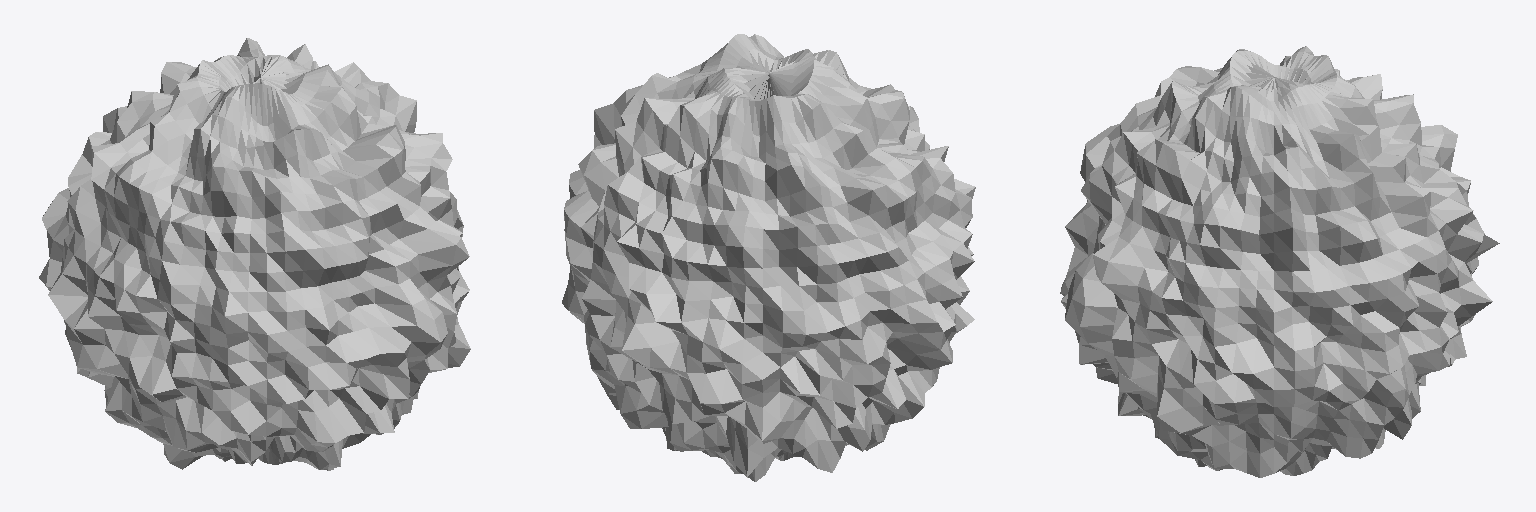
The model's file is Asteroid_metal_big.obj.
3 renders of one model, left to right at view 1: azimuth 30°, elevation 25°; view 2: azimuth 150°, elevation 25°; view 3: azimuth 270°, elevation 25°, orthographic.
Visible parts, largest first — view 1: Metal_Asteroid; view 2: Metal_Asteroid; view 3: Metal_Asteroid.
Boxes of the visible parts, box(x1,y1,x2,y2) form: Metal_Asteroid: box(39, 38, 470, 470); Metal_Asteroid: box(562, 34, 975, 481); Metal_Asteroid: box(1060, 46, 1499, 477).
Size of the model in its own units: 3.31 by 3.24 by 3.33.